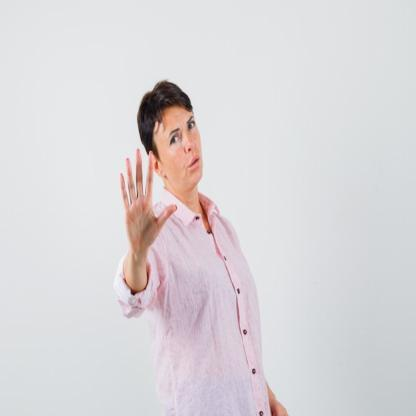stop: (118, 146, 178, 256)
